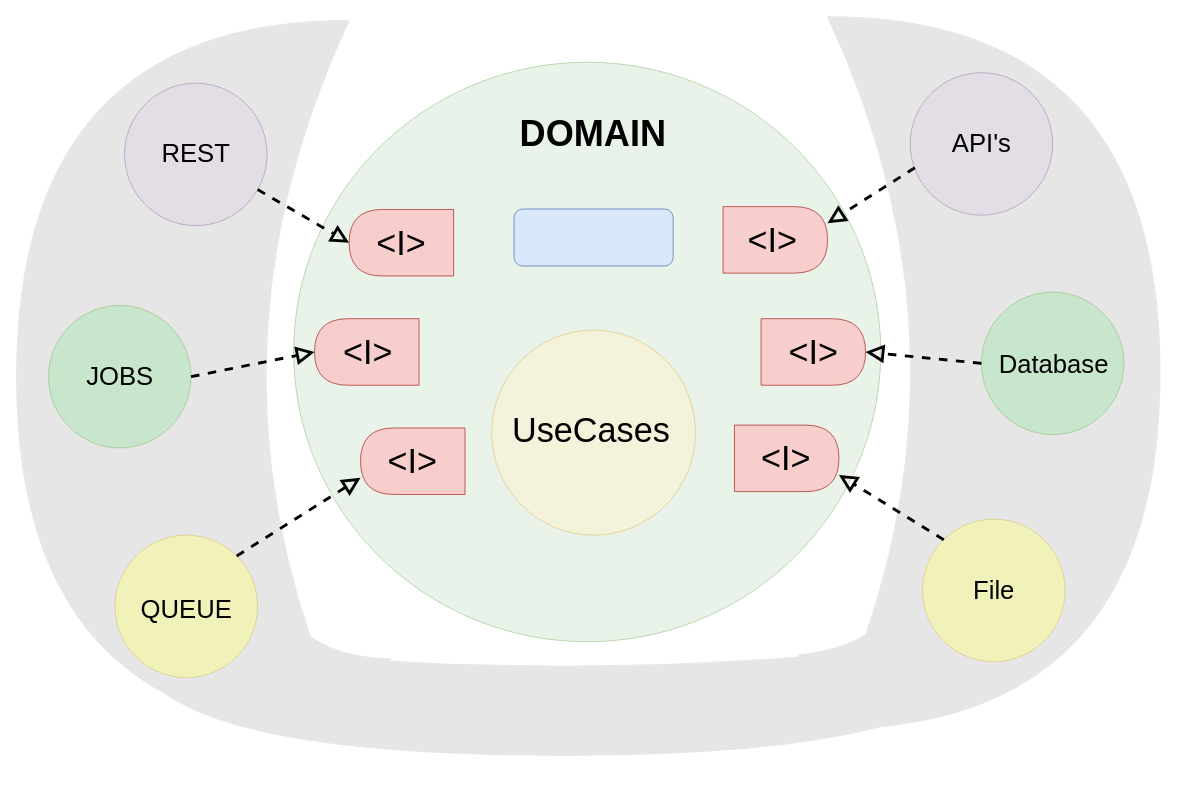
Some shapes in this 1177 by 786 pixel diagram are drawn without their labels. The centre of each missing label's shape, as x and y in pixels:
APP: the point at 561,695
Entity: the point at 593,237
